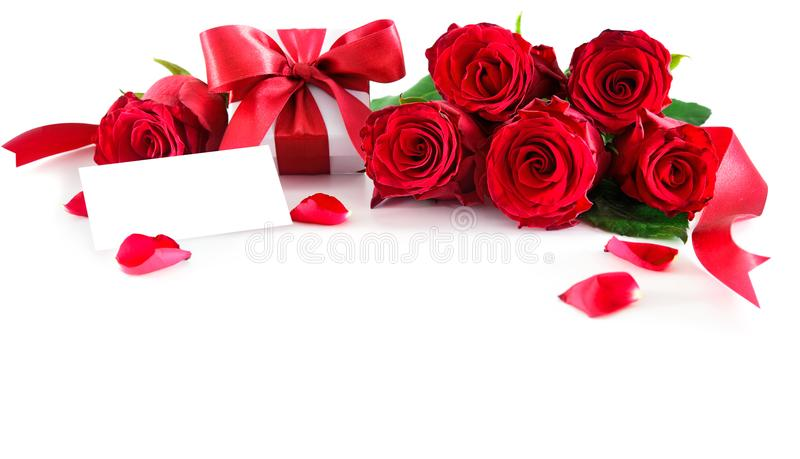RedRose: (468, 96, 592, 244), (355, 91, 476, 211), (610, 113, 730, 230), (415, 22, 558, 113), (566, 26, 677, 125), (98, 78, 204, 173)
